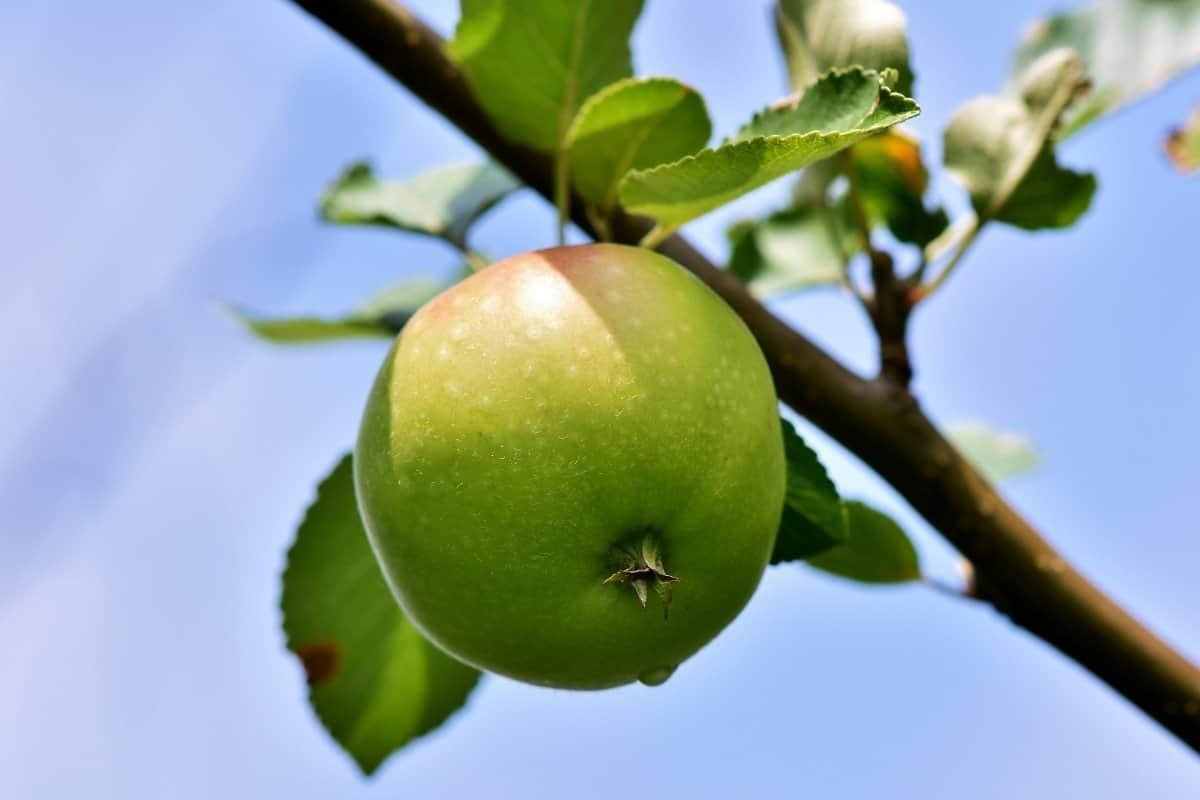apple: (312, 248, 787, 716)
